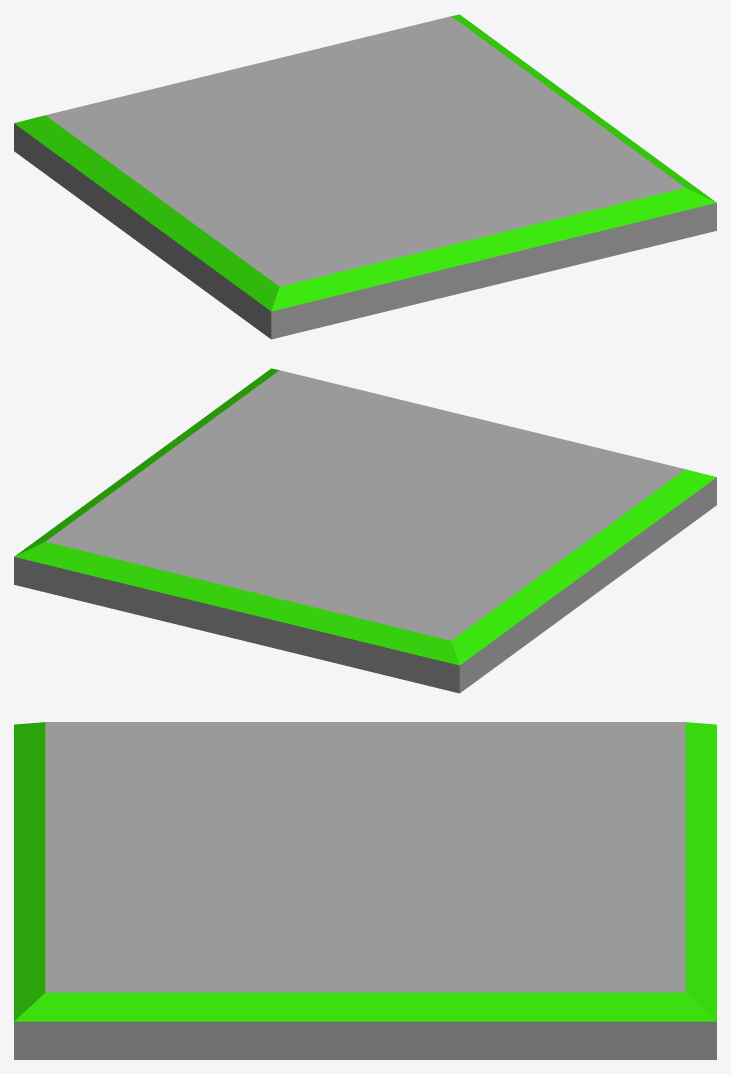
Rendered from chargePad.fbx.
3 views of the same model, one above another, from view 1: azimuth 30°, elevation 25°; view 2: azimuth 150°, elevation 25°; view 3: azimuth 270°, elevation 25° (orthographic). The views are drawn at different scales.
Visible parts, largest first — view 1: chargePad; view 2: chargePad; view 3: chargePad.
Part boxes in pixels (x1,y1,x2,y2): chargePad: (14, 14, 716, 339); chargePad: (14, 368, 716, 693); chargePad: (14, 722, 716, 1059).
Bounding box in the file's own units: 0.05 × 0.00423 × 0.05.
